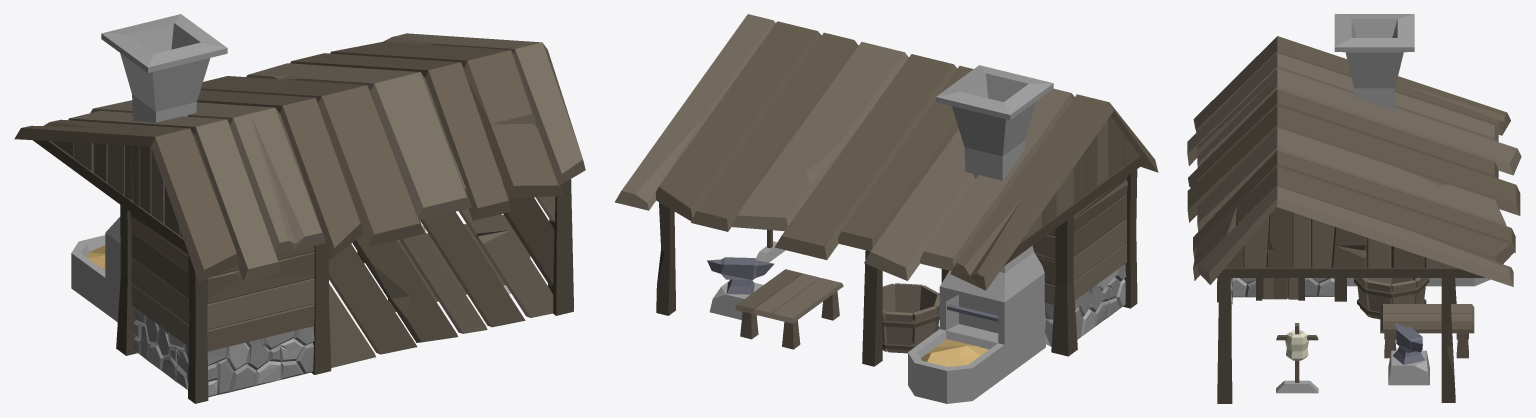
File: Smithy.fbx
The picture shows the model from 3 angles, left to right: view 1: azimuth 30°, elevation 25°; view 2: azimuth 150°, elevation 25°; view 3: azimuth 270°, elevation 25°; orthographic projection. The views are drawn at different scales.
Parts seen in each view (by area): view 1: Smithy; view 2: Smithy; view 3: Smithy.
Part boxes in pixels (left/top/right/bottom): Smithy: left=14, top=14, right=585, bottom=403; Smithy: left=615, top=14, right=1158, bottom=403; Smithy: left=1187, top=14, right=1521, bottom=403.
Size of the model in its own units: 965 by 661 by 822.
